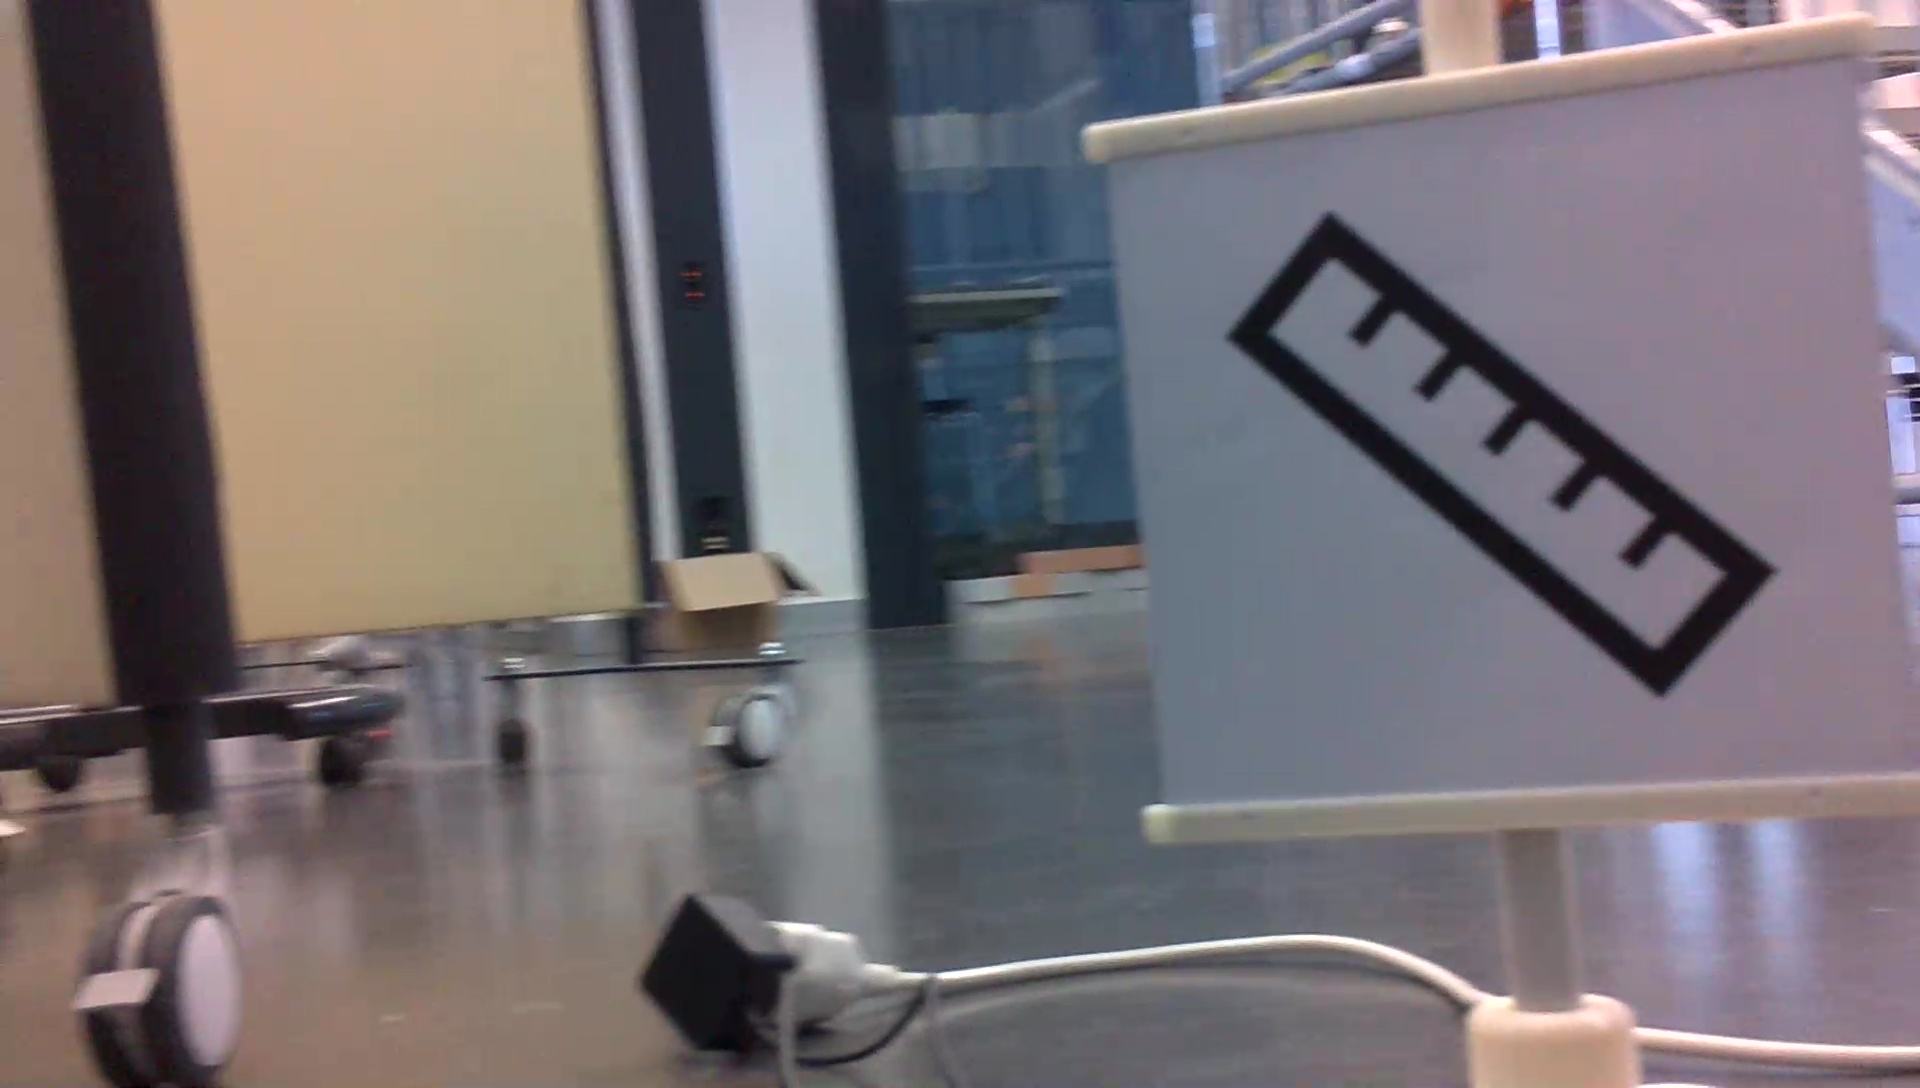ruler: (1221, 199, 1797, 706)
